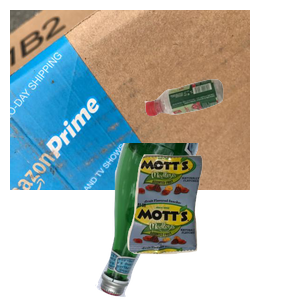cardboard: (10, 10, 250, 190)
glass: (93, 143, 284, 300)
plastic: (142, 77, 300, 186)
trash: (125, 152, 300, 300)
